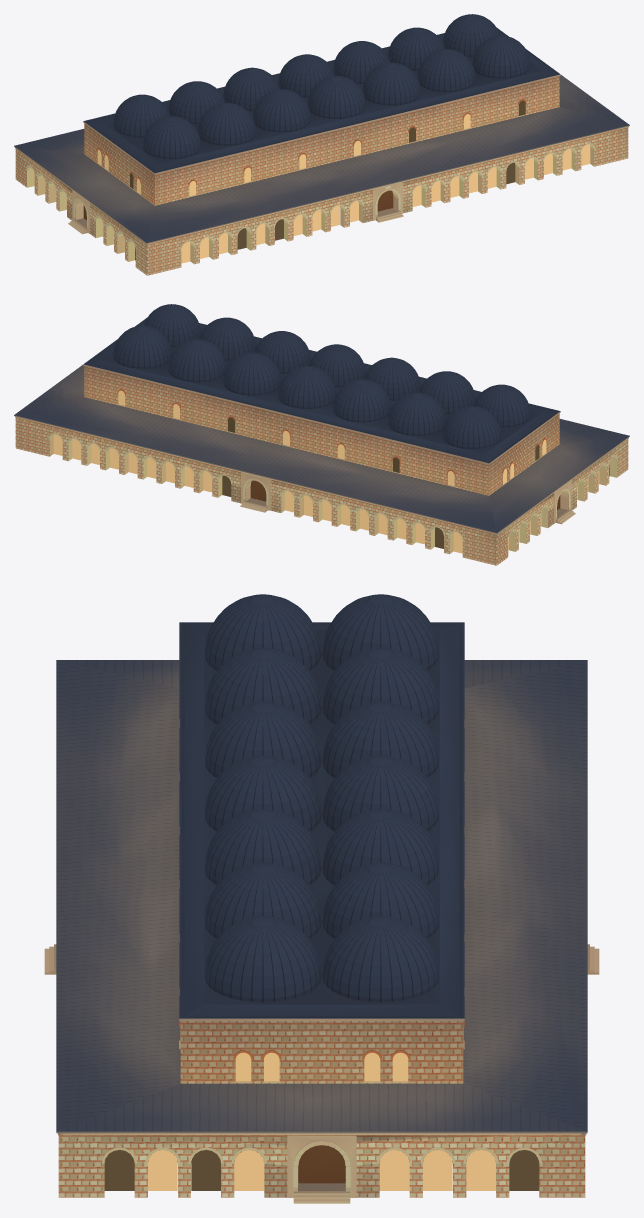
The model's file is bedesten_v06_night.glb.
3 views of the same model, one above another, from view 1: azimuth 30°, elevation 25°; view 2: azimuth 150°, elevation 25°; view 3: azimuth 270°, elevation 25° (orthographic). The views are drawn at different scales.
Parts seen in each view (by area): view 1: Cati, Kubbeler, Dukkanlar, Govde, Sacak, Pencereler, Kapilar, Dukkan_Kapilari; view 2: Cati, Kubbeler, Dukkanlar, Govde, Sacak, Pencereler, Kapilar, Dukkan_Kapilari; view 3: Cati, Kubbeler, Dukkanlar, Govde, Sacak, Kapilar, Pencereler, Dukkan_Kapilari.
Boxes of the visible parts, bbox=[...] form: Cati: bbox=[14, 31, 629, 243]; Kubbeler: bbox=[113, 14, 530, 159]; Dukkanlar: bbox=[15, 127, 628, 275]; Govde: bbox=[84, 28, 559, 205]; Sacak: bbox=[15, 27, 628, 244]; Pencereler: bbox=[97, 99, 526, 196]; Kapilar: bbox=[68, 182, 403, 234]; Dukkan_Kapilari: bbox=[26, 143, 595, 250]; Cati: bbox=[14, 321, 629, 533]; Kubbeler: bbox=[113, 304, 530, 449]; Dukkanlar: bbox=[15, 417, 628, 565]; Govde: bbox=[84, 318, 559, 495]; Sacak: bbox=[15, 317, 628, 534]; Pencereler: bbox=[117, 389, 546, 486]; Kapilar: bbox=[240, 472, 575, 524]; Dukkan_Kapilari: bbox=[48, 433, 617, 540]; Cati: bbox=[56, 624, 587, 1133]; Kubbeler: bbox=[205, 594, 438, 1002]; Dukkanlar: bbox=[58, 1135, 585, 1197]; Govde: bbox=[180, 622, 463, 1083]; Sacak: bbox=[58, 622, 586, 1135]; Kapilar: bbox=[44, 944, 599, 1203]; Pencereler: bbox=[179, 719, 464, 1082]; Dukkan_Kapilari: bbox=[102, 1147, 541, 1163].
Size of the model in its own units: 72.5 by 14.2 by 35.3.
Materials: 10 (3 with a texture image).
